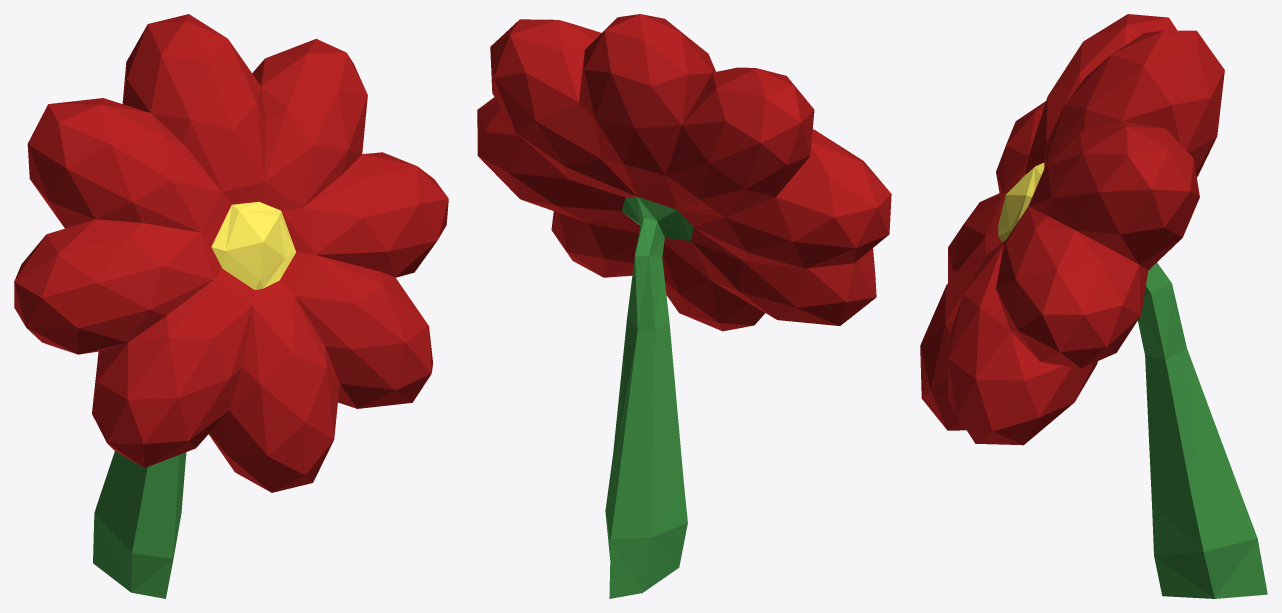
The model's file is fantasy_plant_076.fbx.
3 views of the same model, side by side, from view 1: azimuth 30°, elevation 25°; view 2: azimuth 150°, elevation 25°; view 3: azimuth 270°, elevation 25° (orthographic). The views are drawn at different scales.
Parts seen in each view (by area): view 1: fantasy_plant.076; view 2: fantasy_plant.076; view 3: fantasy_plant.076.
Boxes of the visible parts, x1,y1,x2,y2 form: fantasy_plant.076: (14,14,448,598); fantasy_plant.076: (477,14,891,598); fantasy_plant.076: (920,14,1267,598).
Bounding box in the file's own units: 386 × 502 × 275.
Materials: 1 (1 with a texture image).
